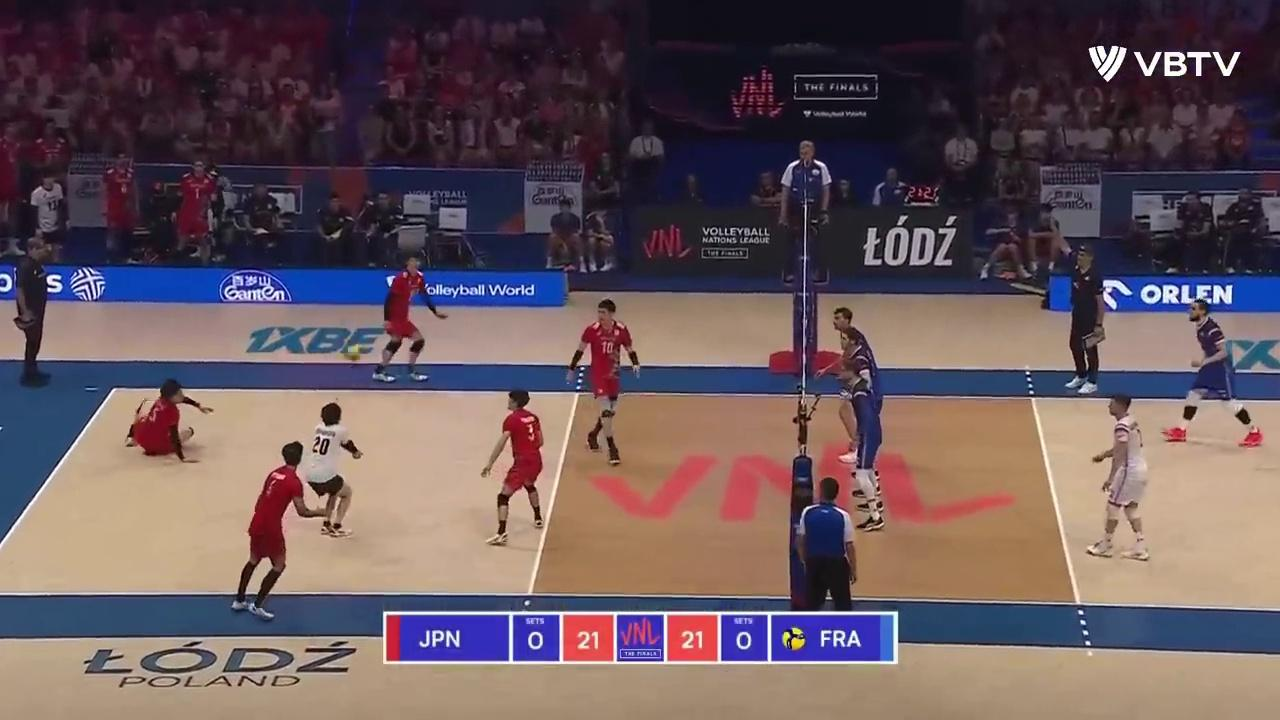ball: (344, 343, 361, 362)
